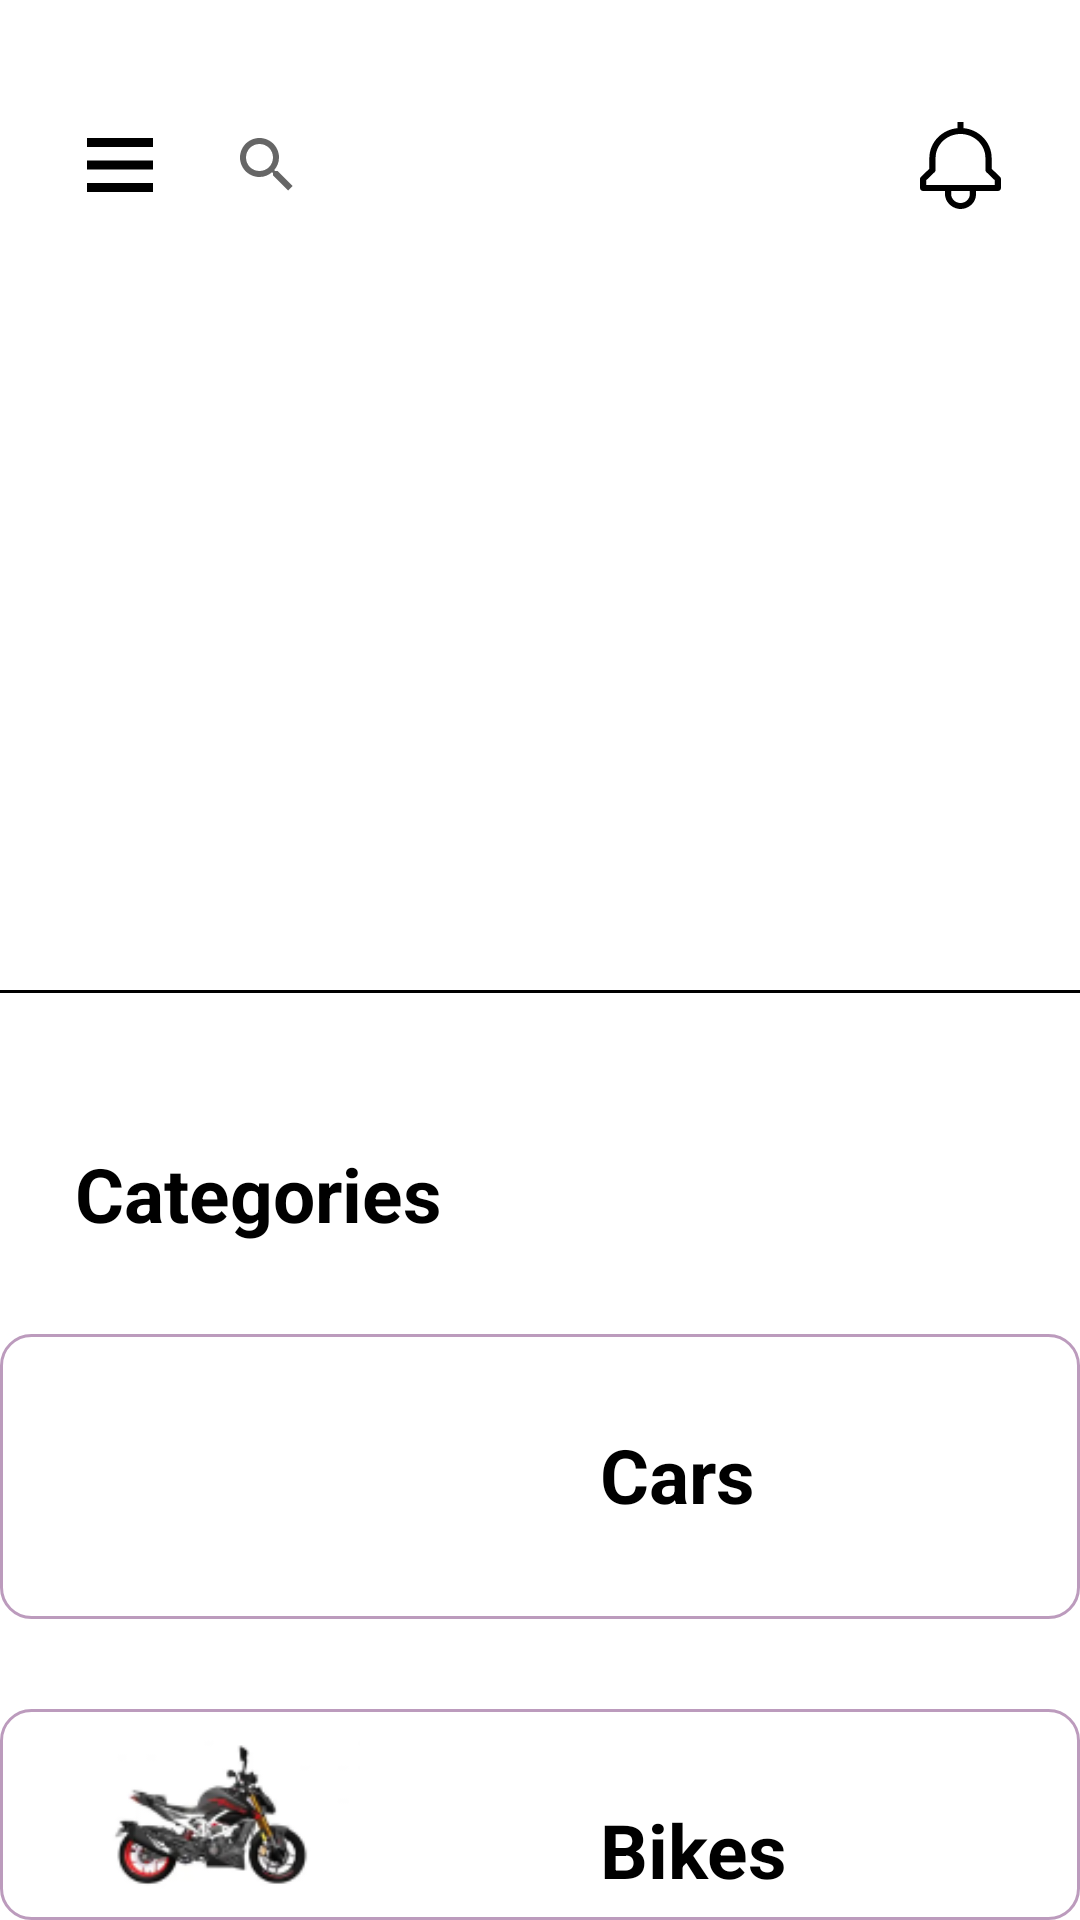

Named icons in this screenshot (1080 × 1920) and their bounding boxes, [x1=x1, y1=y1, x2=x2, y2=y2]:
bell: [x1=920, y1=122, x2=1001, y2=209]
home bike: [x1=115, y1=1745, x2=307, y2=1884]
menu: [x1=87, y1=138, x2=153, y2=192]
